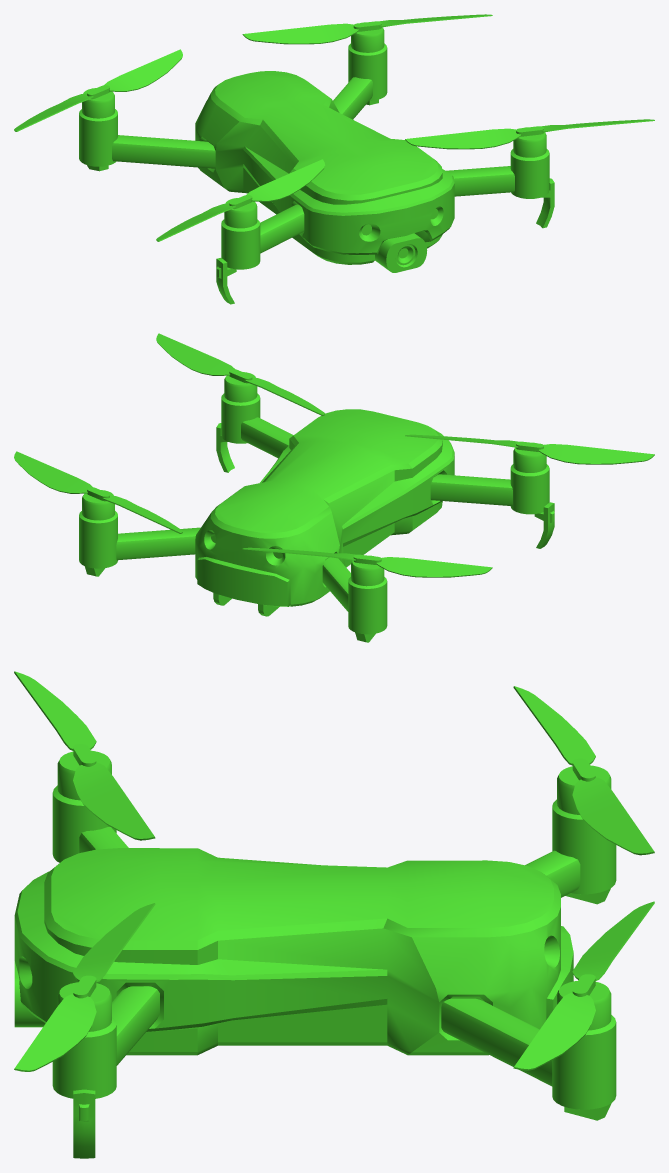
Rendered from Mini Drone.fbx.
3 views of the same model, one above another, from view 1: azimuth 30°, elevation 25°; view 2: azimuth 150°, elevation 25°; view 3: azimuth 270°, elevation 25° (orthographic). The views are drawn at different scales.
Parts seen in each view (by area): view 1: Mini Drone_low, Mini Drone_low.003, Mini Drone_low.002, Mini Drone_low.001, Mini Drone_low.004; view 2: Mini Drone_low, Mini Drone_low.001, Mini Drone_low.004, Mini Drone_low.002, Mini Drone_low.003; view 3: Mini Drone_low, Mini Drone_low.001, Mini Drone_low.003, Mini Drone_low.004, Mini Drone_low.002.
Boxes of the visible parts, x1=… form: Mini Drone_low: x1=79, y1=43, x2=554, y2=304; Mini Drone_low.003: x1=242, y1=14, x2=492, y2=52; Mini Drone_low.002: x1=405, y1=119, x2=654, y2=157; Mini Drone_low.001: x1=156, y1=159, x2=325, y2=241; Mini Drone_low.004: x1=14, y1=49, x2=182, y2=131; Mini Drone_low: x1=79, y1=393, x2=554, y2=642; Mini Drone_low.001: x1=405, y1=434, x2=654, y2=472; Mini Drone_low.004: x1=242, y1=547, x2=492, y2=586; Mini Drone_low.002: x1=156, y1=333, x2=325, y2=415; Mini Drone_low.003: x1=14, y1=451, x2=182, y2=533; Mini Drone_low: x1=14, y1=785, x2=616, y2=1158; Mini Drone_low.001: x1=14, y1=671, x2=155, y2=840; Mini Drone_low.003: x1=513, y1=901, x2=654, y2=1070; Mini Drone_low.004: x1=513, y1=686, x2=654, y2=855; Mini Drone_low.002: x1=14, y1=903, x2=155, y2=1071.
Size of the model in its own units: 0.3534 by 0.0677 by 0.241.
